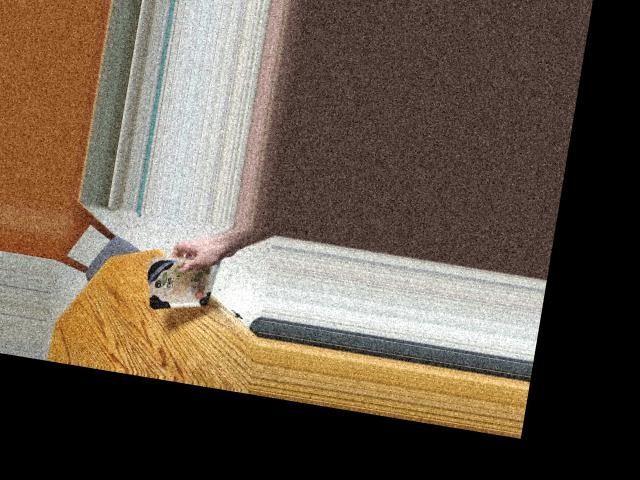cheese: (139, 247, 232, 316)
